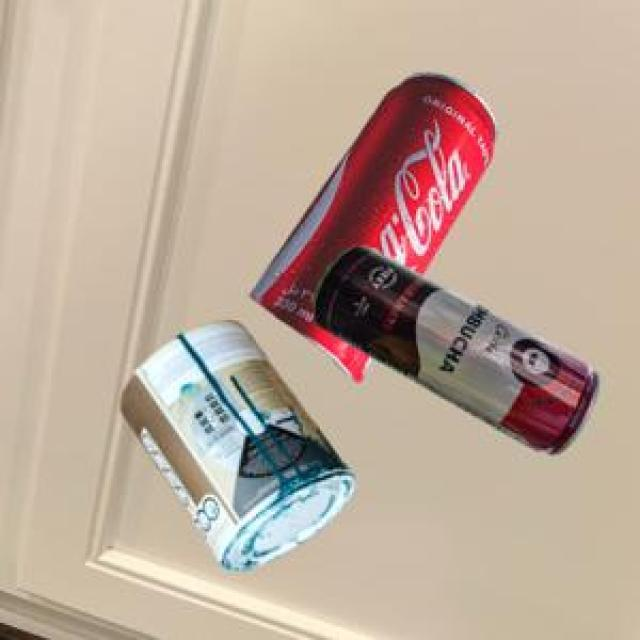Can: (246, 71, 494, 379), (310, 244, 596, 451), (118, 317, 353, 566)
